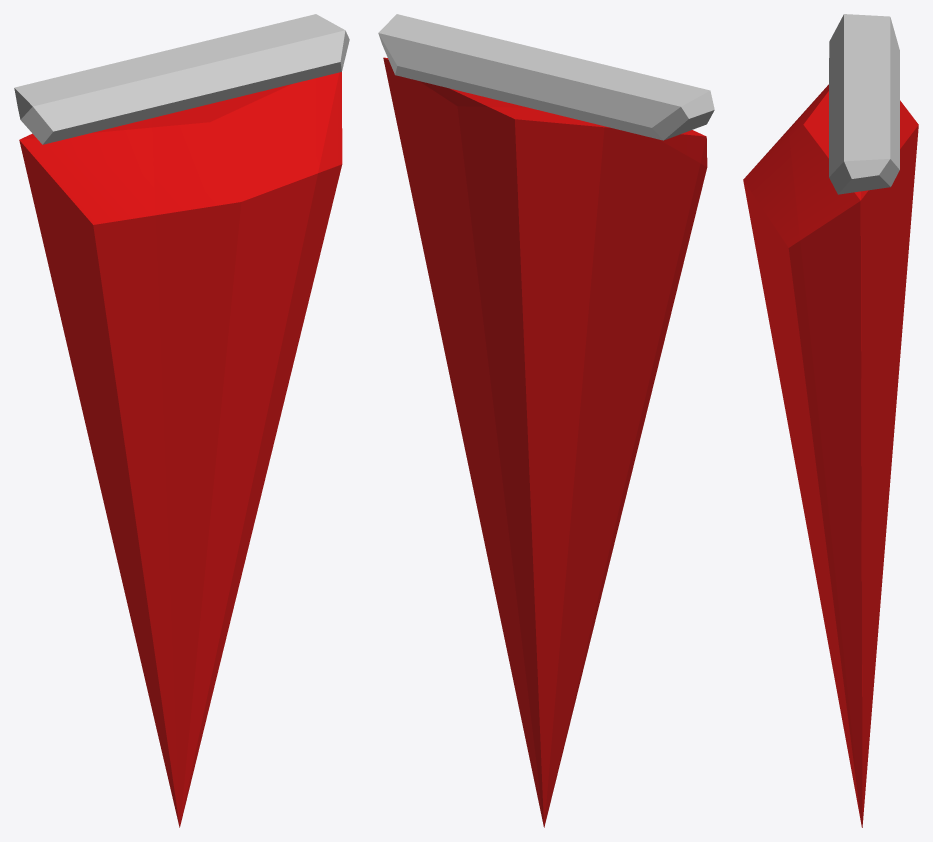
File: Low Poly Red Crystal .fbx
3 renders of one model, left to right at view 1: azimuth 30°, elevation 25°; view 2: azimuth 150°, elevation 25°; view 3: azimuth 270°, elevation 25°, orthographic. The views are drawn at different scales.
Visible parts, largest first — view 1: pPyramid1, pCube1; view 2: pPyramid1, pCube1; view 3: pPyramid1, pCube1.
Part boxes in pixels (<box>): pPyramid1: <box>19,72,342,827</box>; pCube1: <box>14,14,349,144</box>; pPyramid1: <box>383,57,707,827</box>; pCube1: <box>378,14,714,140</box>; pPyramid1: <box>743,84,918,827</box>; pCube1: <box>829,14,899,194</box>.
Bounding box in the file's own units: 2.73 × 6.08 × 1.31.
